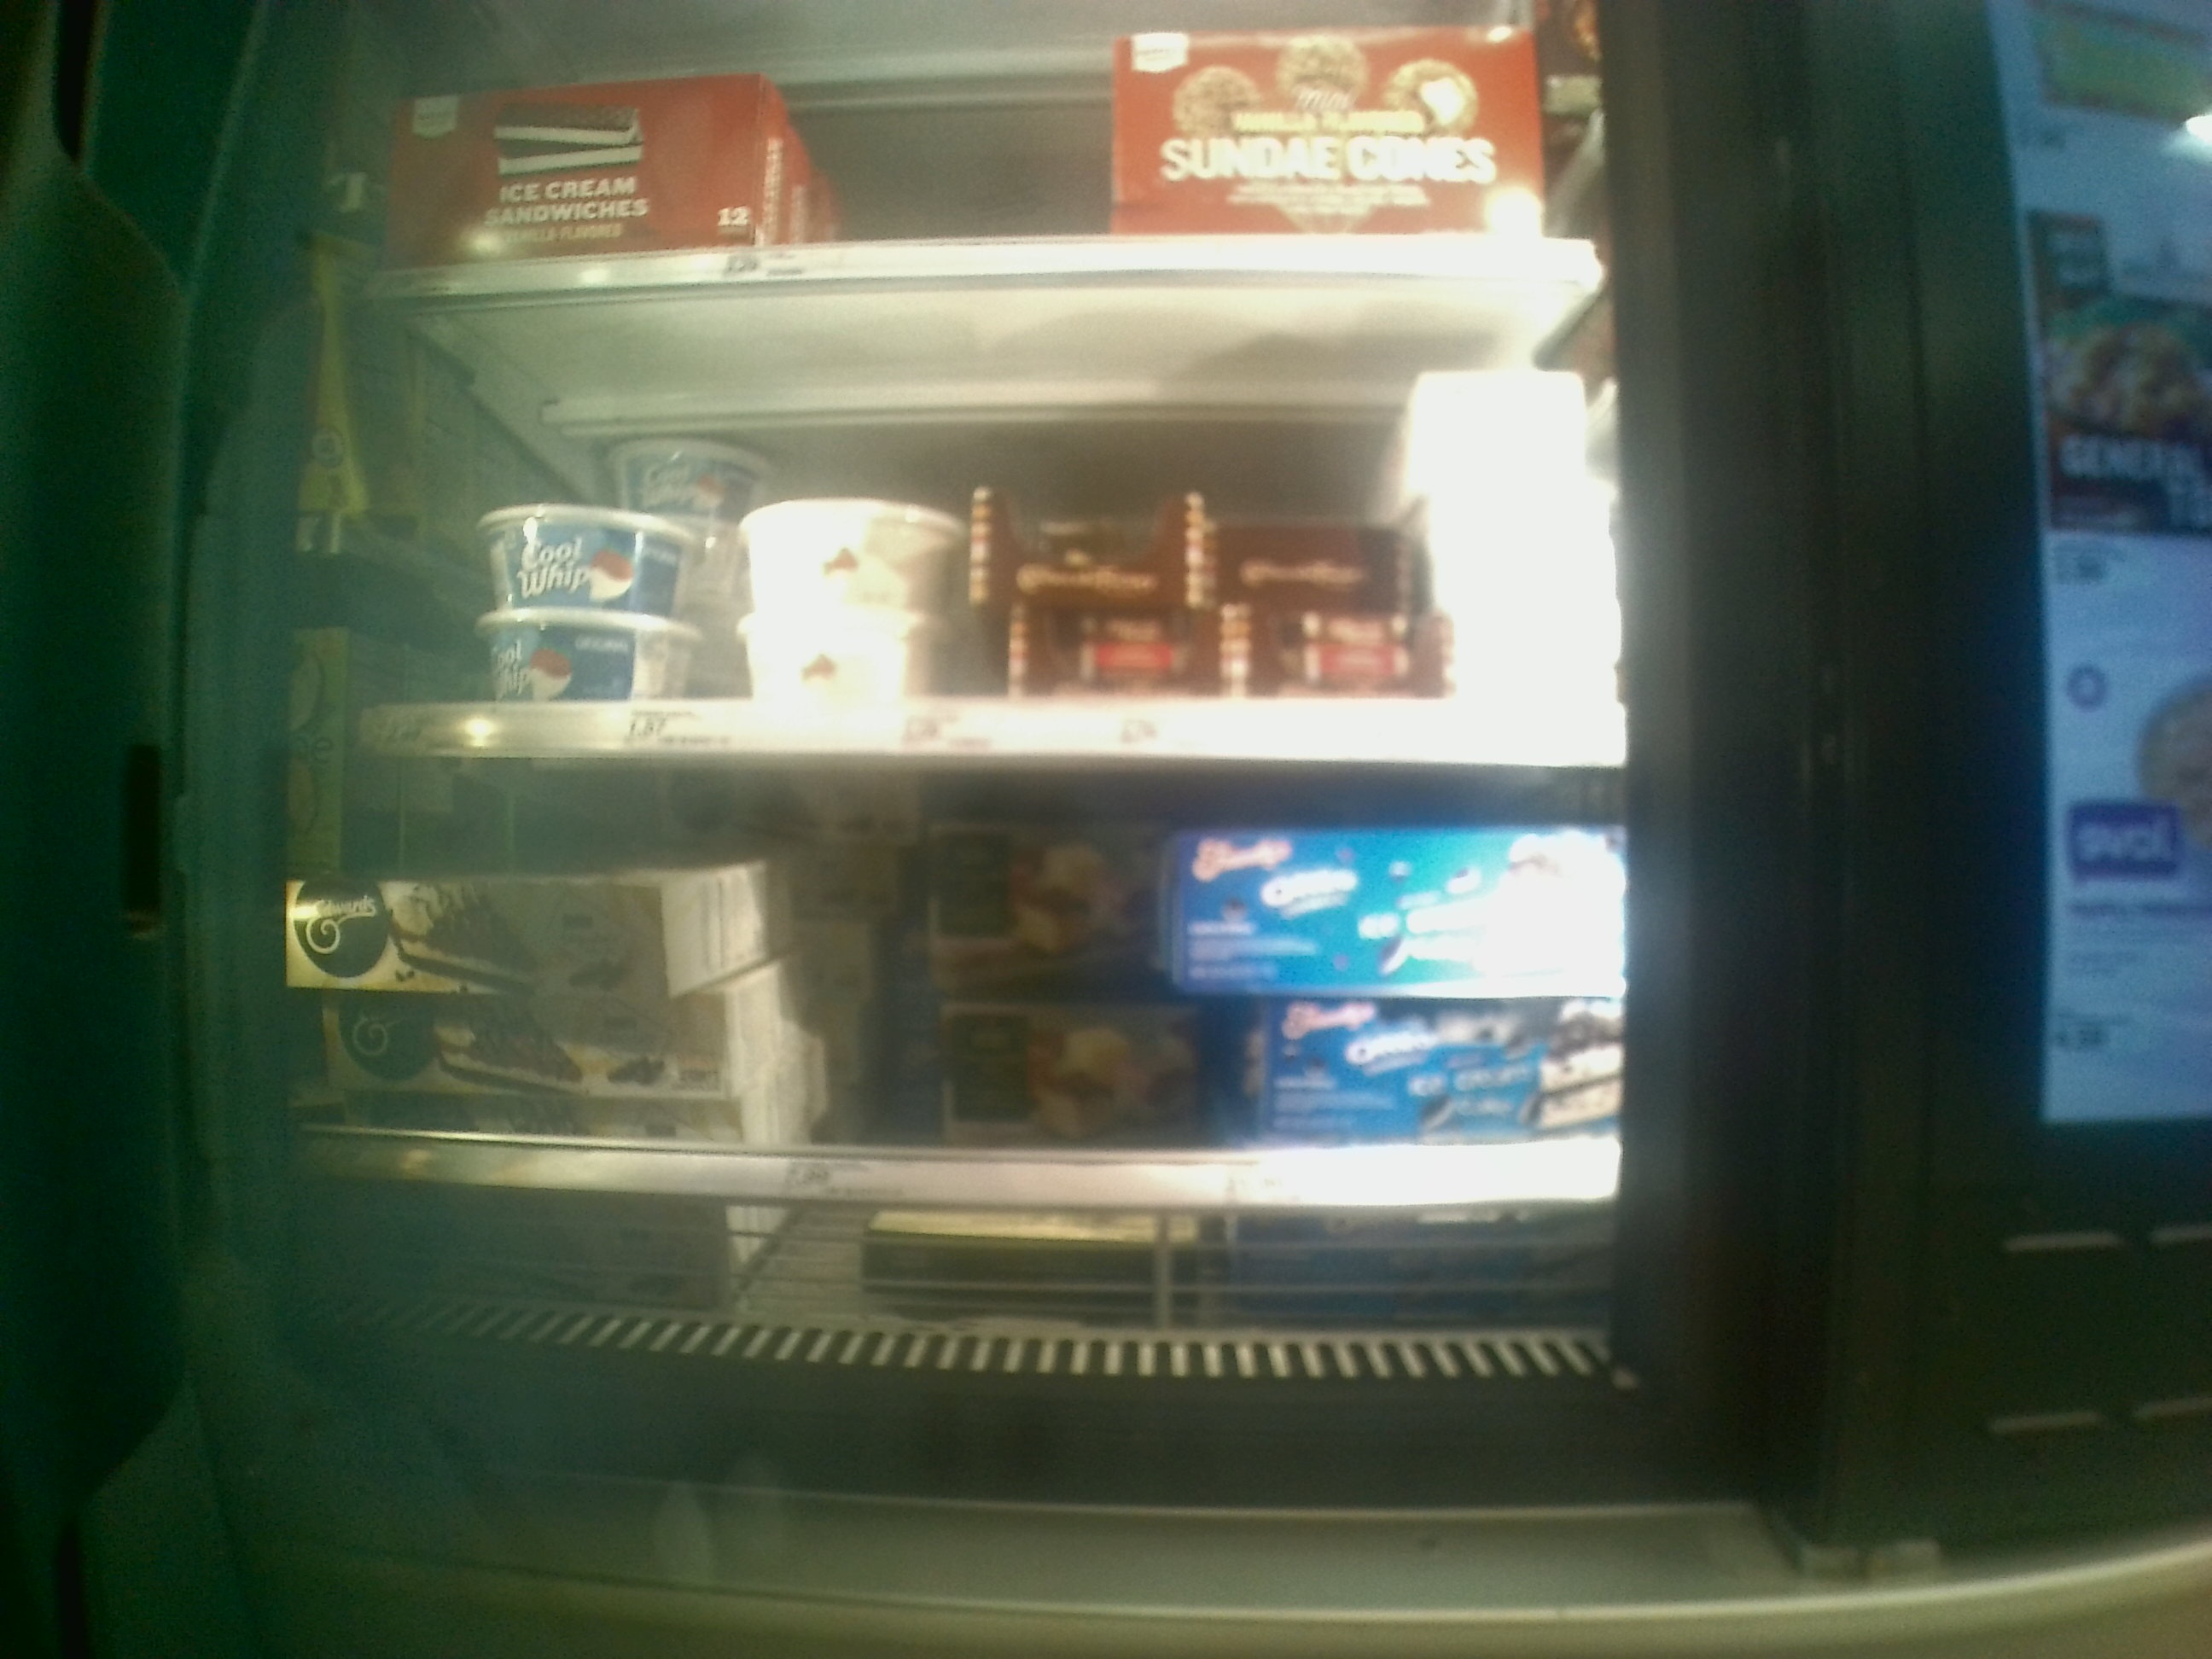frozen-food-shelf: (171, 772, 1629, 1211)
